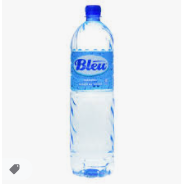Bottle: (70, 5, 115, 176)
